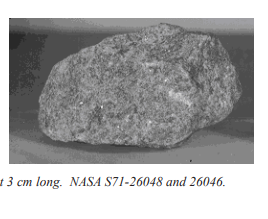Basalt: (38, 18, 244, 151)
